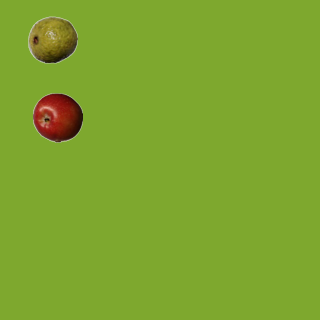Apple Braeburn: (32, 92, 82, 142)
Guava: (27, 14, 77, 64)
